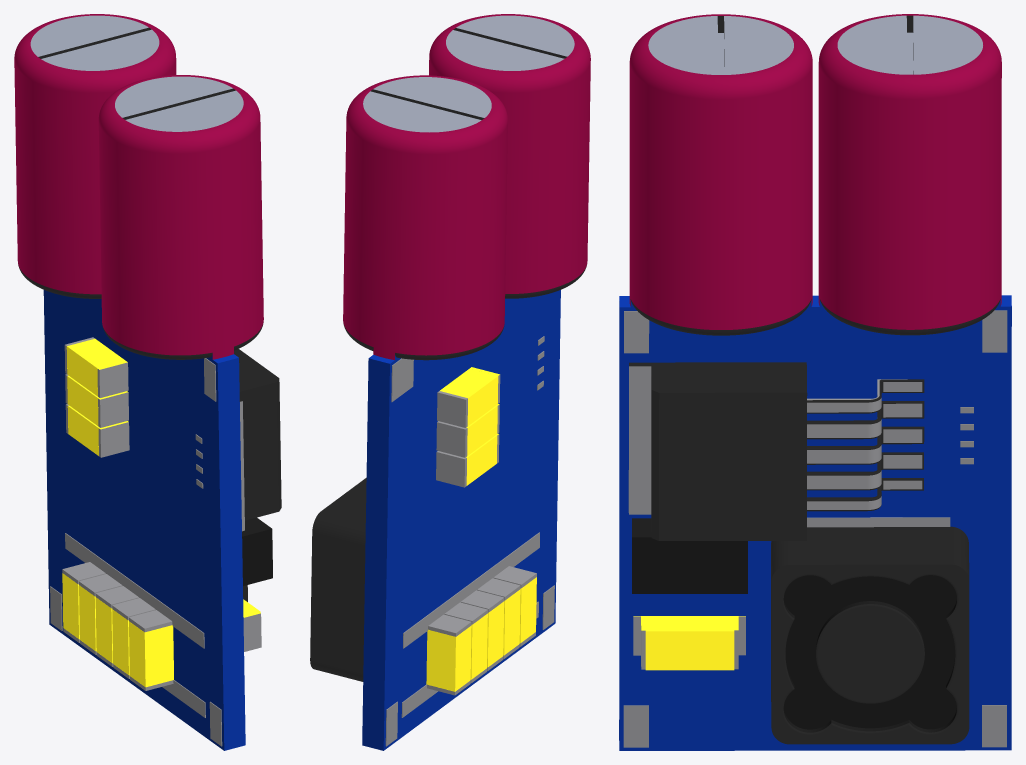
File: ubec.glb
The picture shows the model from 3 angles, left to right: view 1: azimuth 30°, elevation 25°; view 2: azimuth 150°, elevation 25°; view 3: azimuth 270°, elevation 25°; orthographic projection. The views are drawn at different scales.
Visible parts, largest first — view 1: UBEC 2 v1; view 2: UBEC 2 v1; view 3: UBEC 2 v1.
Part boxes in pixels (x1,y1,x2,y2): UBEC 2 v1: (14,14,281,750); UBEC 2 v1: (310,14,590,750); UBEC 2 v1: (619,14,1011,750).
Bounding box in the file's own units: 30.76 × 112 × 57.08.
